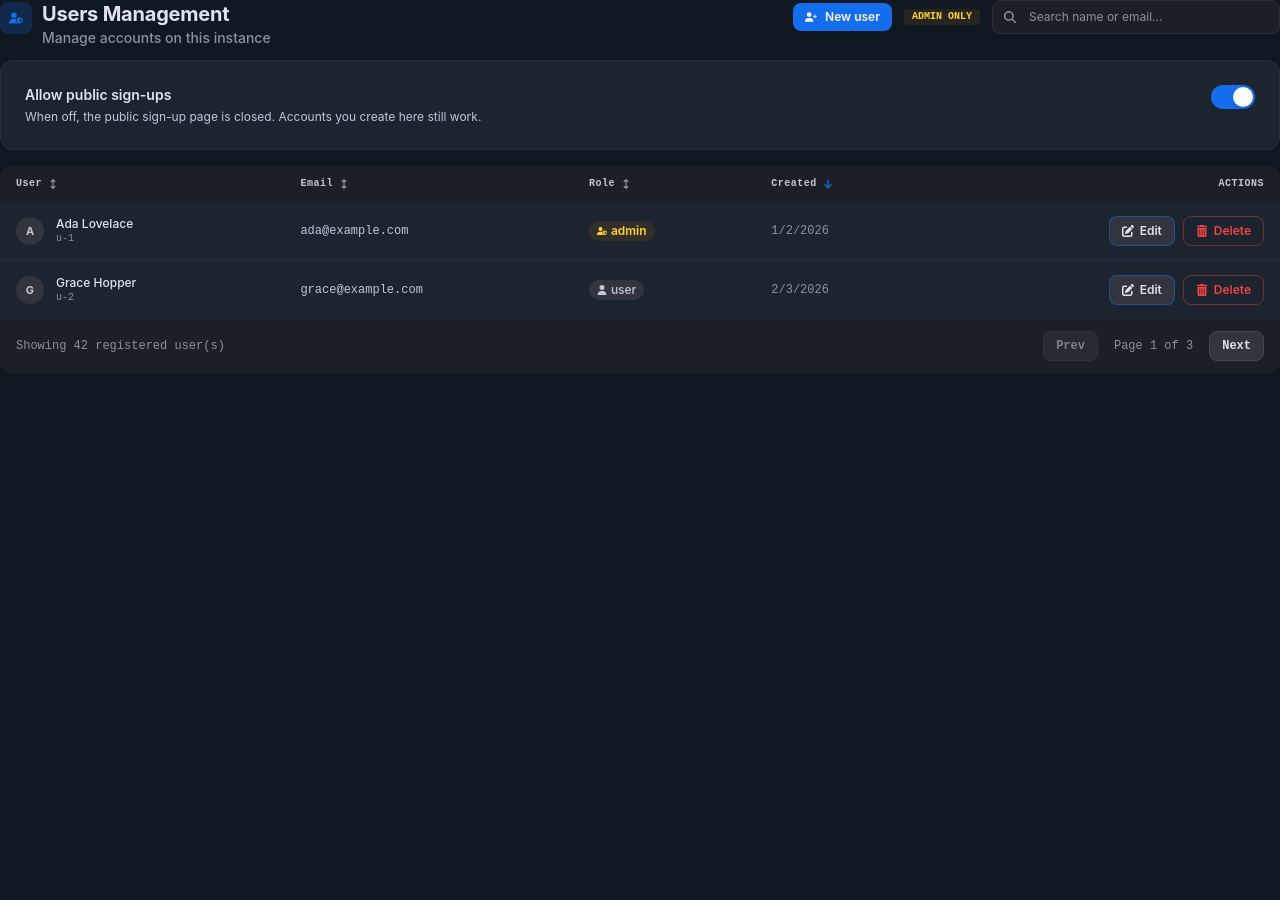
Test: UsersSection delete actions › renders the generic impact wording directly with no preview fetch
The image size is (1280, 900).
Expected: the text "Grace Hopper" is shown, [56,275,136,291]
Click the button with aria-label "Delete Grace Hopper".
click(1223, 290)  # box [1183,275,1264,305]
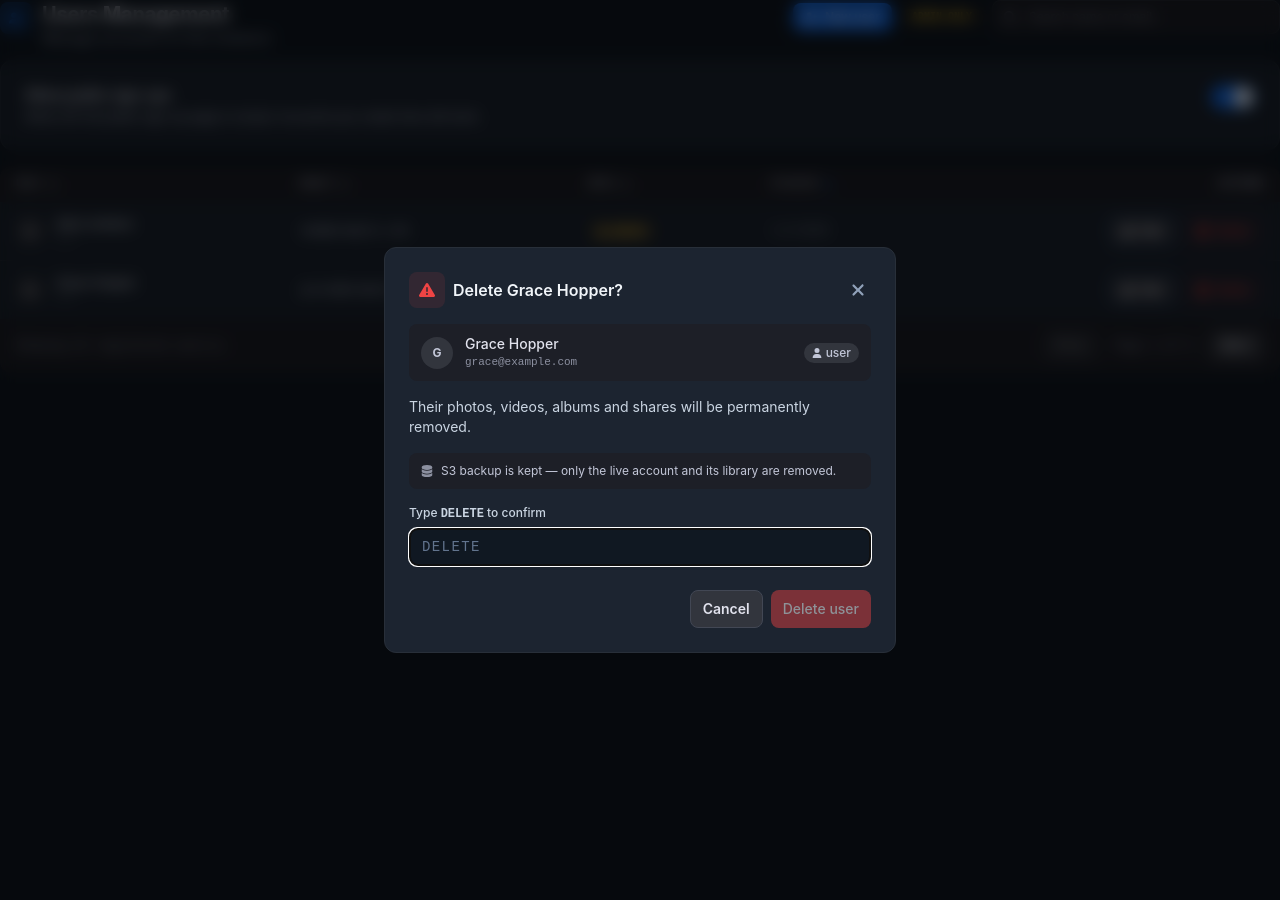
Expected: the dialog named "Delete user confirmation" is shown
Expected: the text "Their photos, videos, albums and shares will be permanently removed." is shown, [409,397,871,437]
